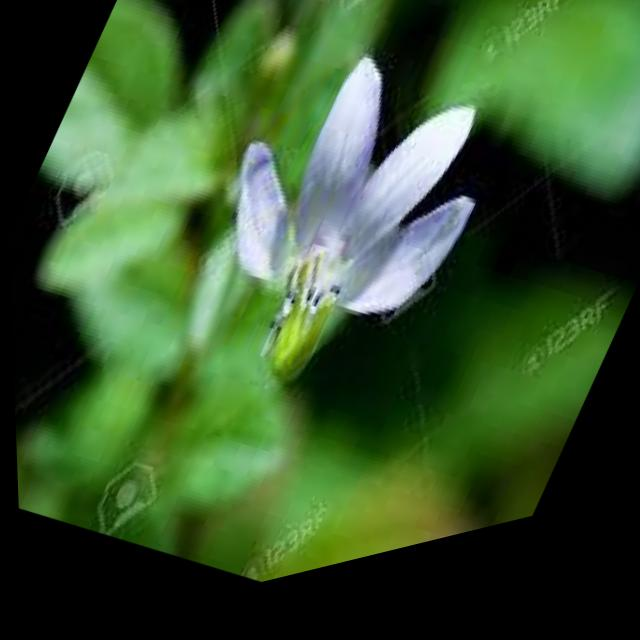Flower: (155, 5, 531, 454)
